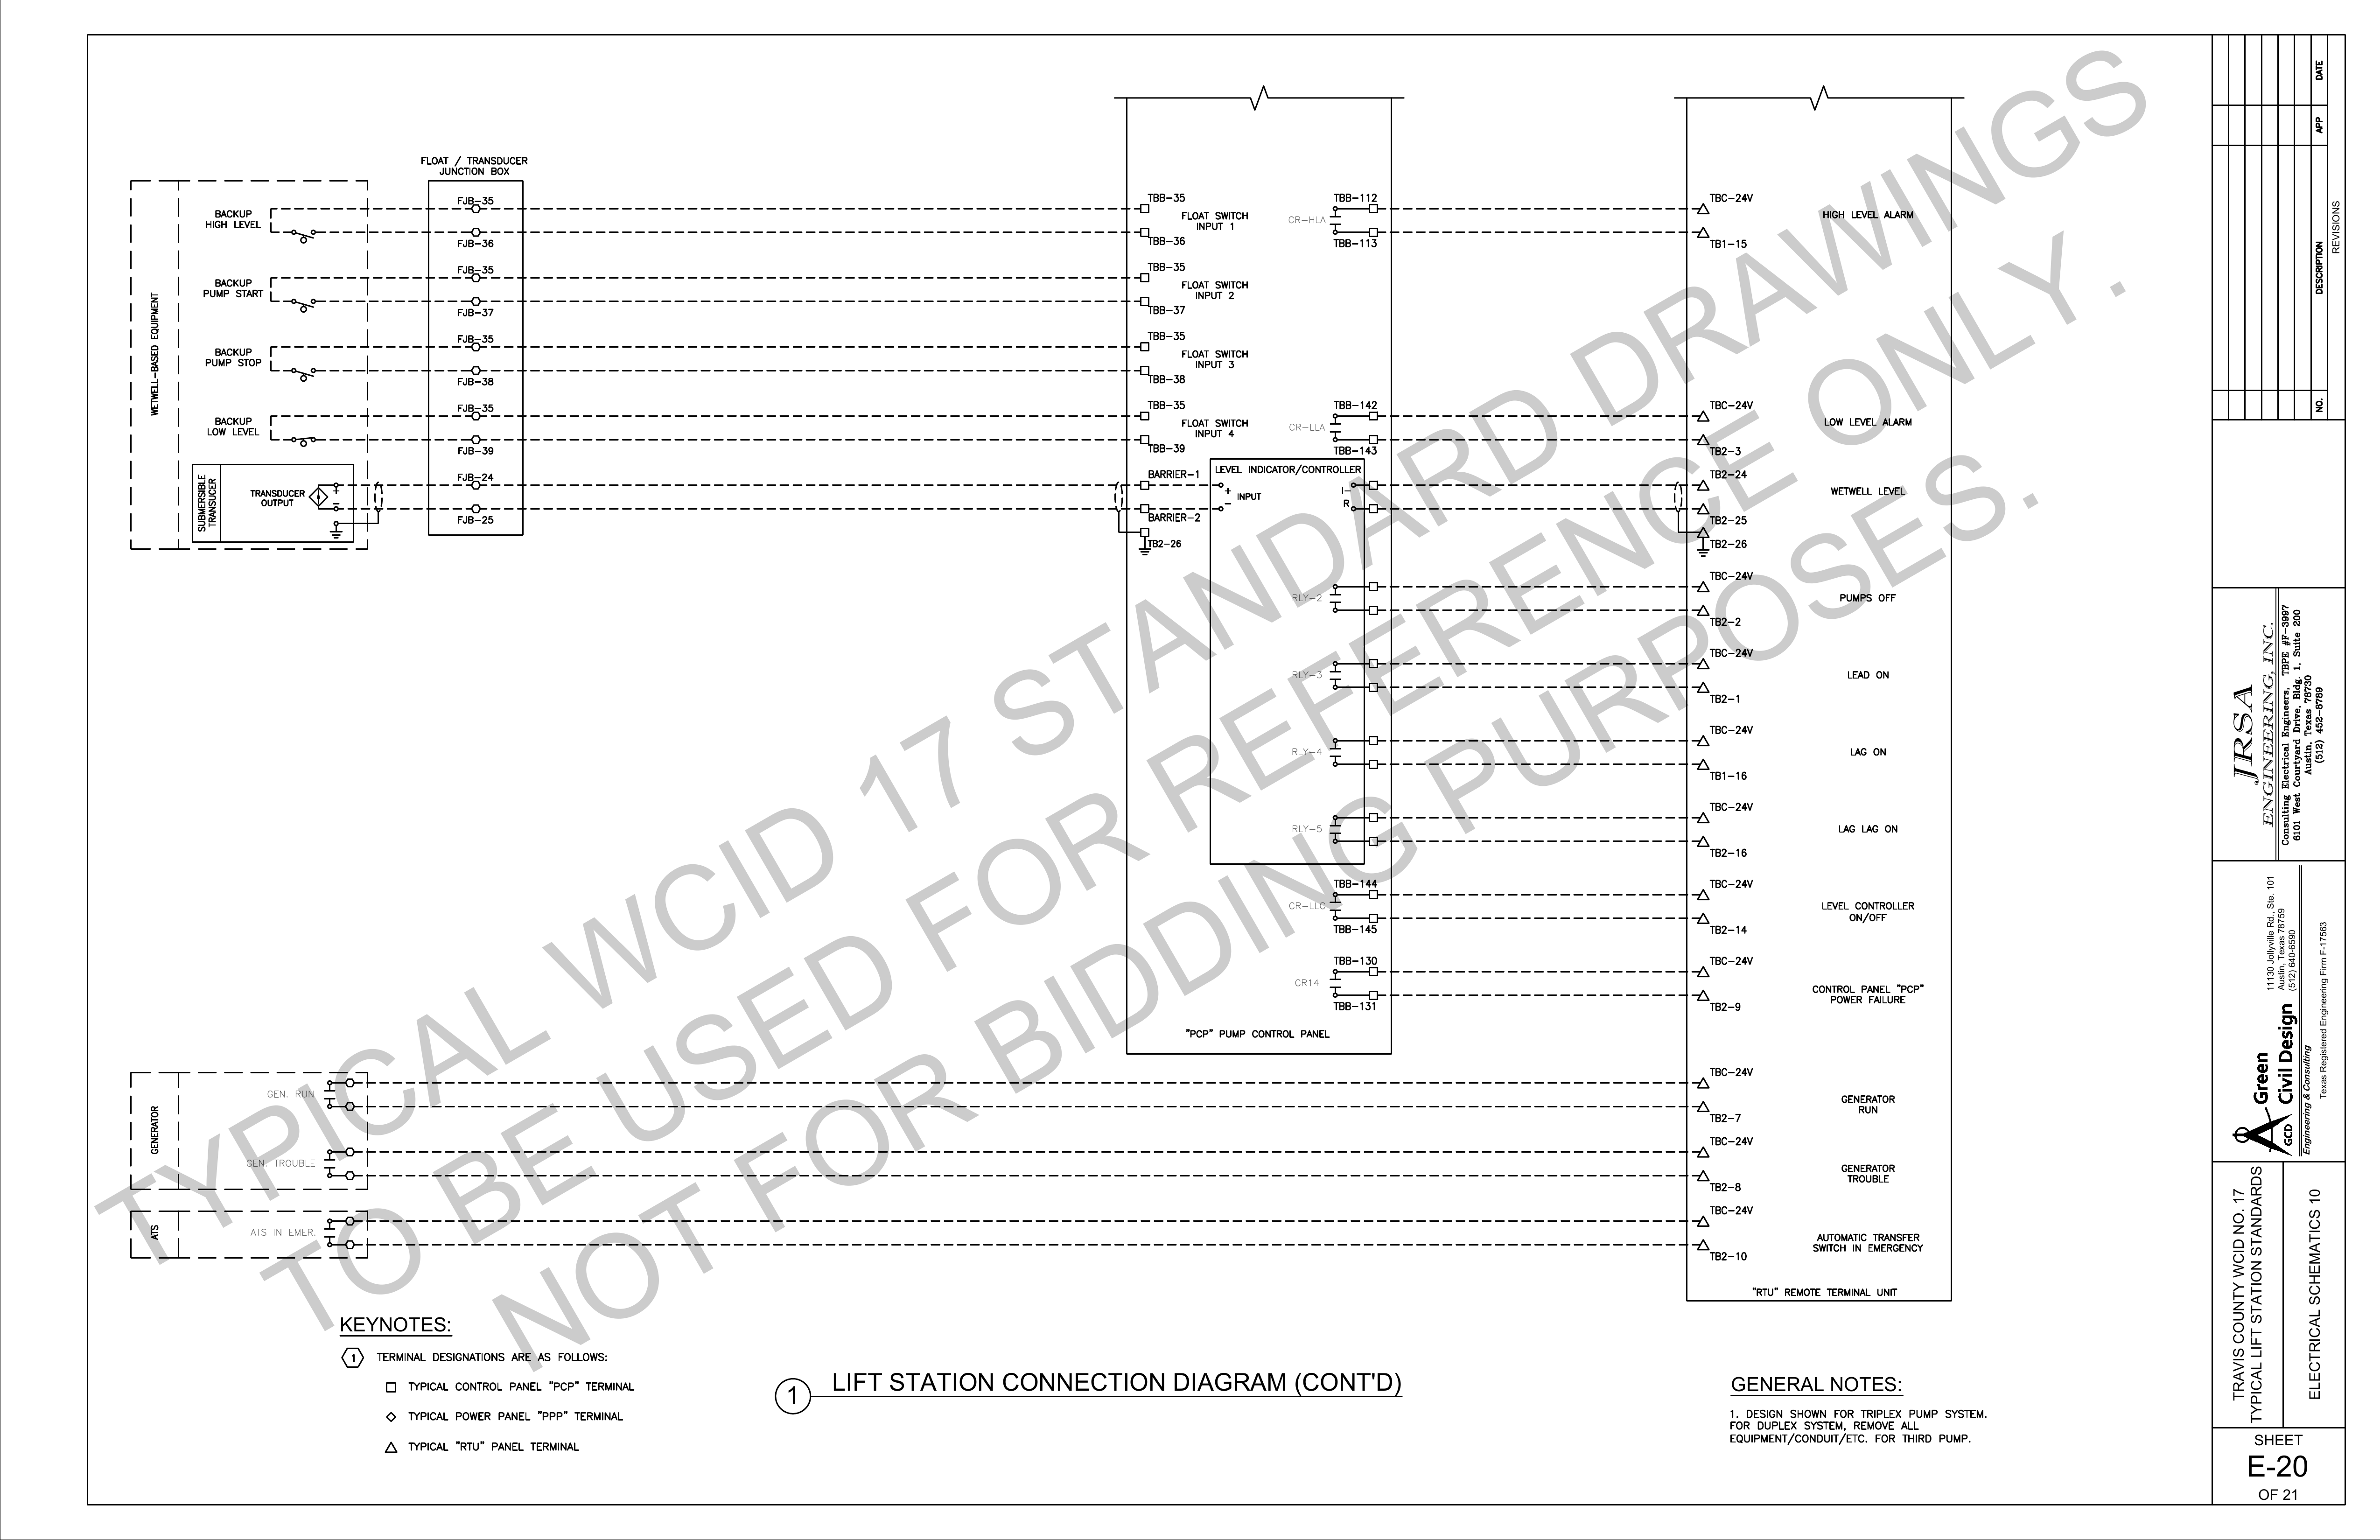ground: (1132, 537, 1161, 563), (320, 518, 350, 541), (1691, 539, 1719, 561)
switch: (278, 219, 326, 250), (283, 288, 325, 316), (286, 363, 328, 385), (285, 430, 324, 448)
